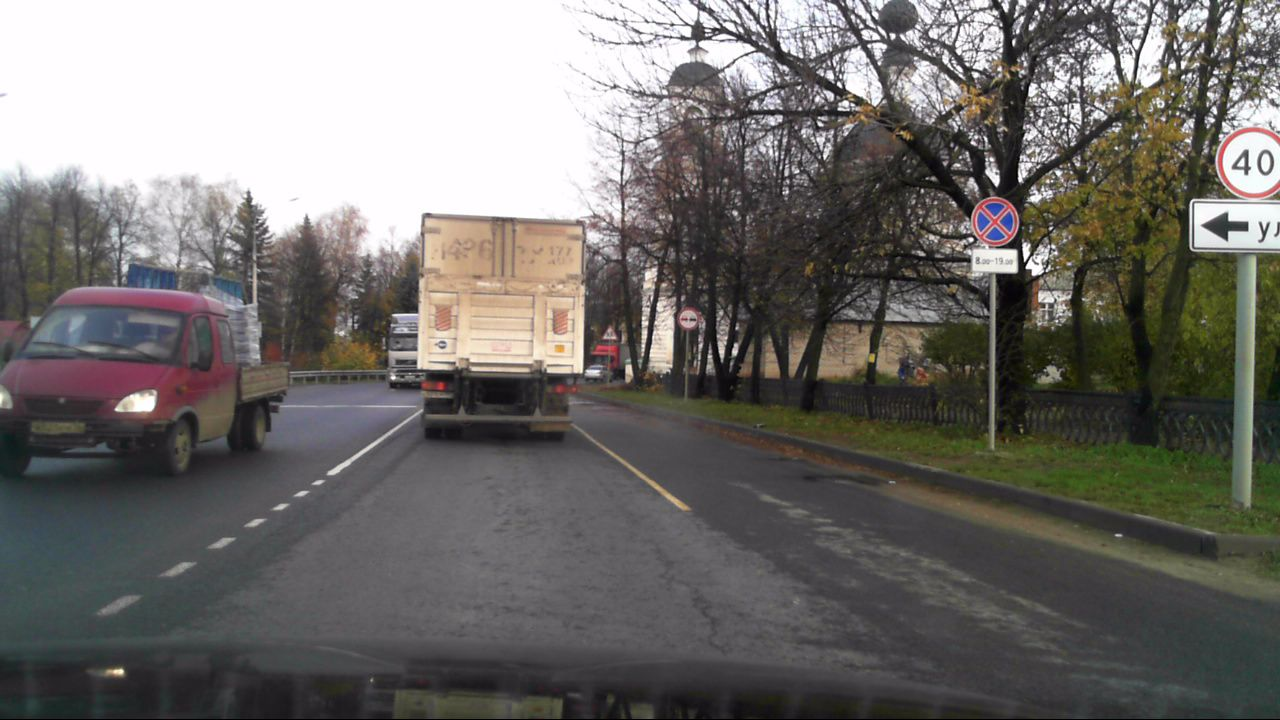No Parking: (968, 195, 1019, 246)
speed_warning_40: (1216, 126, 1279, 204)
